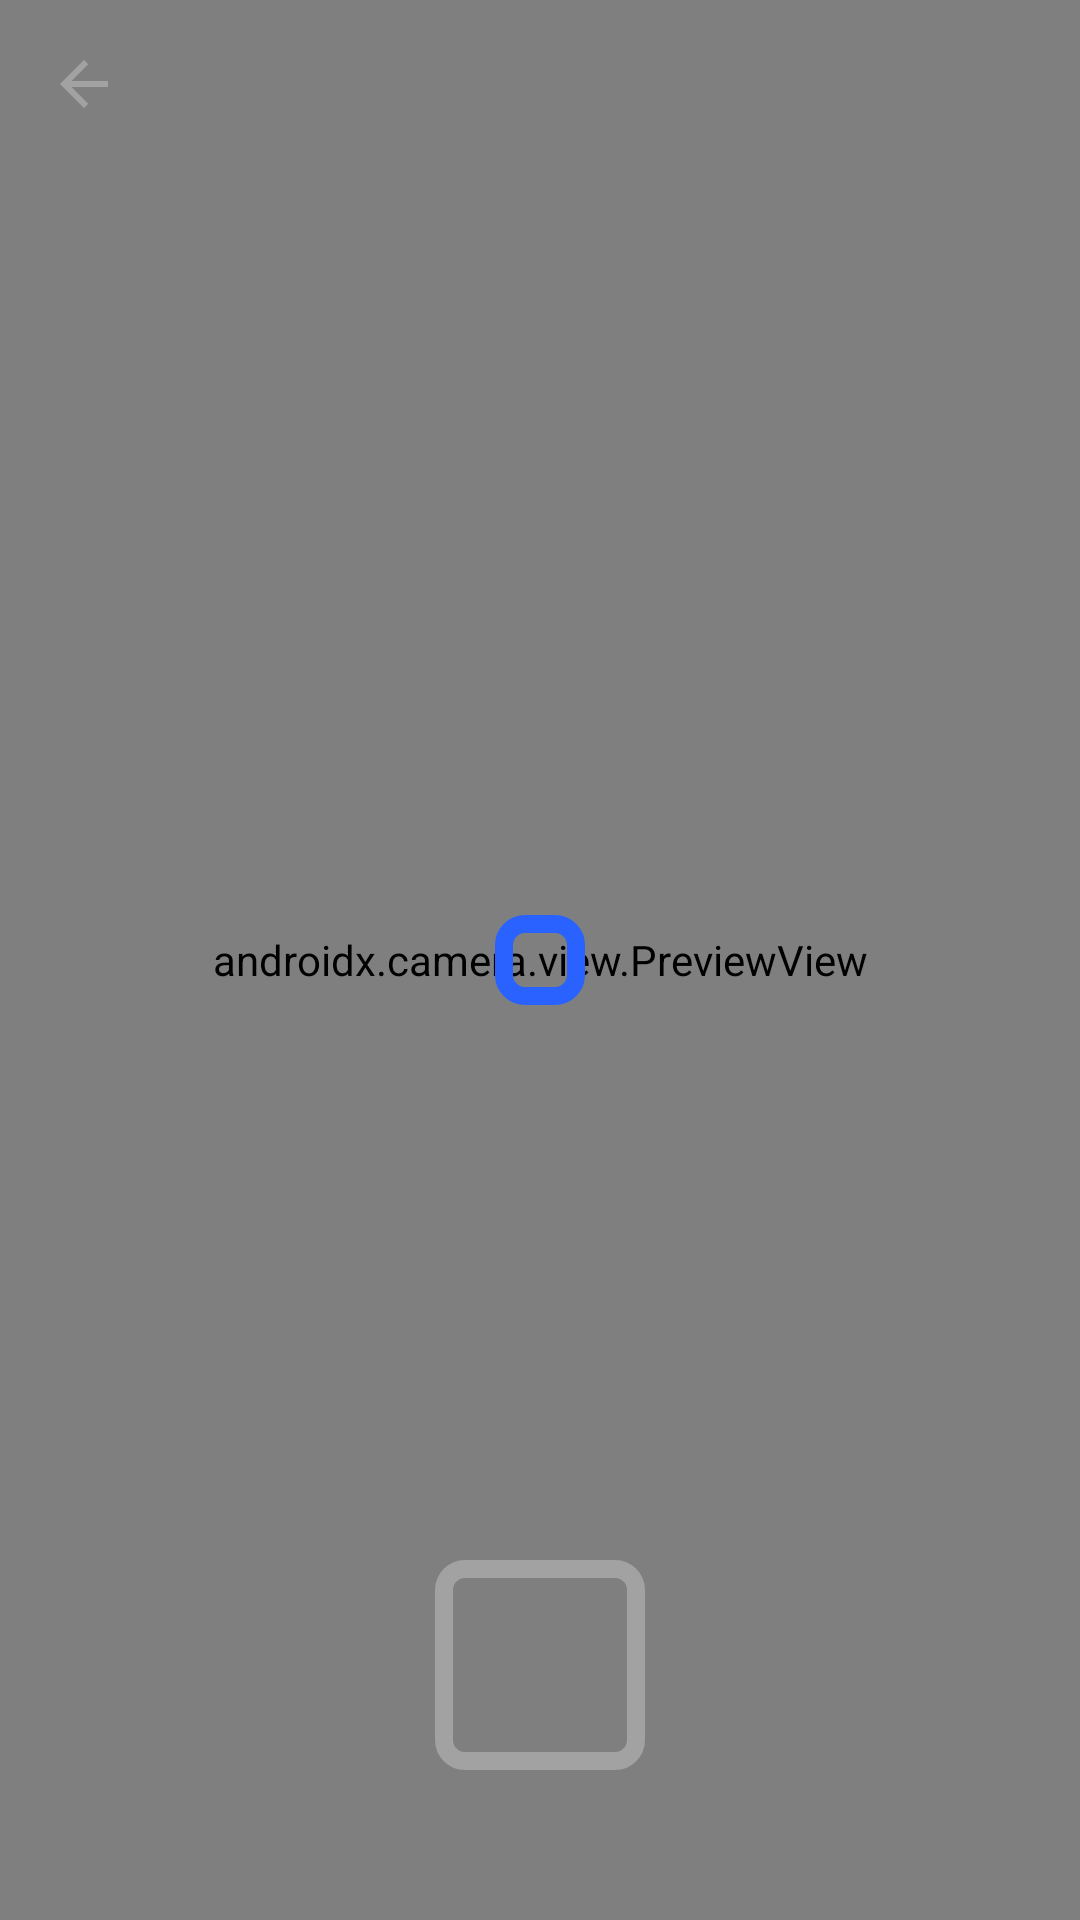

Icons on this 1080 x 1920 Android screen, each with its box as (x1, y1, x2, y2):
arrow back: (61, 61, 108, 107)
